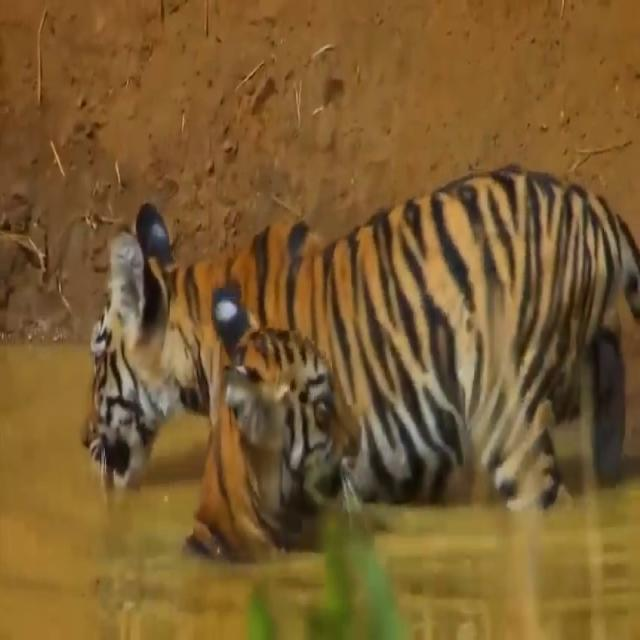tiger: (78, 163, 640, 514), (182, 280, 368, 570)
